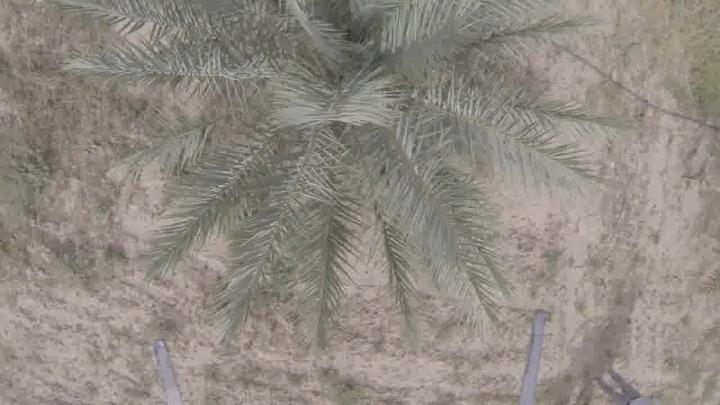Date-Palm-Crown: (185, 0, 481, 246)
